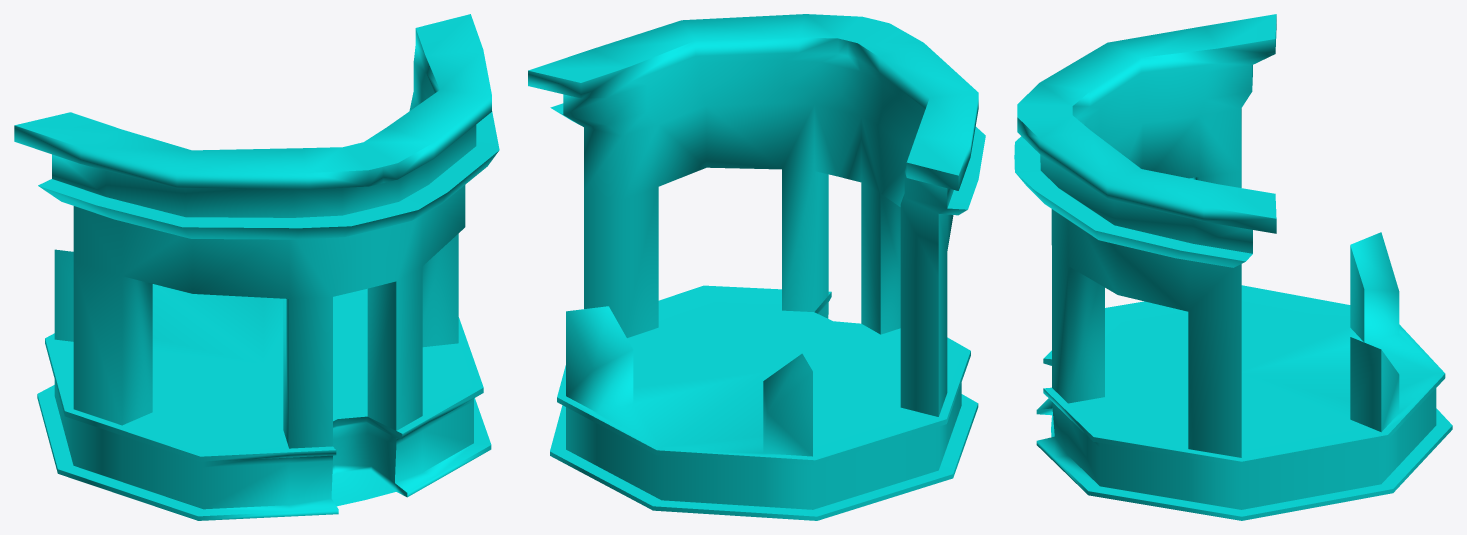
File: mdl_ciudadela_coliseo_casa.fbx
3 renders of one model, left to right at view 1: azimuth 30°, elevation 25°; view 2: azimuth 150°, elevation 25°; view 3: azimuth 270°, elevation 25°, orthographic. The views are drawn at different scales.
Visible parts, largest first — view 1: mdl_ciudadela_coliseo_casa; view 2: mdl_ciudadela_coliseo_casa; view 3: mdl_ciudadela_coliseo_casa.
Boxes of the visible parts, box(x1,y1,x2,y2) form: mdl_ciudadela_coliseo_casa: box(14, 14, 499, 520); mdl_ciudadela_coliseo_casa: box(528, 14, 985, 520); mdl_ciudadela_coliseo_casa: box(1014, 14, 1452, 520).
Size of the model in its own units: 10.2 by 7.41 by 9.22.
